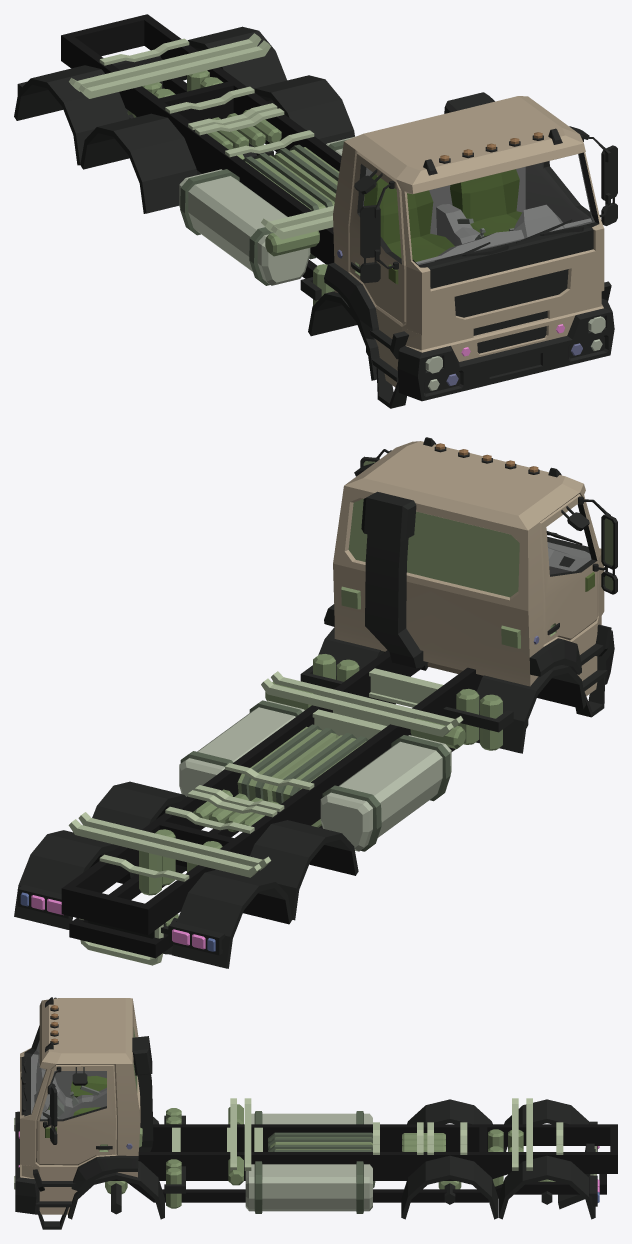
File: SM_Veh_Truck_01_575.obj
3 renders of one model, top to bottom at view 1: azimuth 30°, elevation 25°; view 2: azimuth 150°, elevation 25°; view 3: azimuth 270°, elevation 25°, orthographic. The views are drawn at different scales.
Parts seen in each view (by area): view 1: SM_Veh_Truck_01_0; view 2: SM_Veh_Truck_01_0; view 3: SM_Veh_Truck_01_0.
Boxes of the visible parts, left/top/right/bottom form: SM_Veh_Truck_01_0: left=14, top=14, right=617, bottom=408; SM_Veh_Truck_01_0: left=14, top=437, right=617, bottom=968; SM_Veh_Truck_01_0: left=14, top=997, right=617, bottom=1229.
Size of the model in its own units: 2.75 by 2.44 by 7.64.
Materials: 1 (1 with a texture image).
